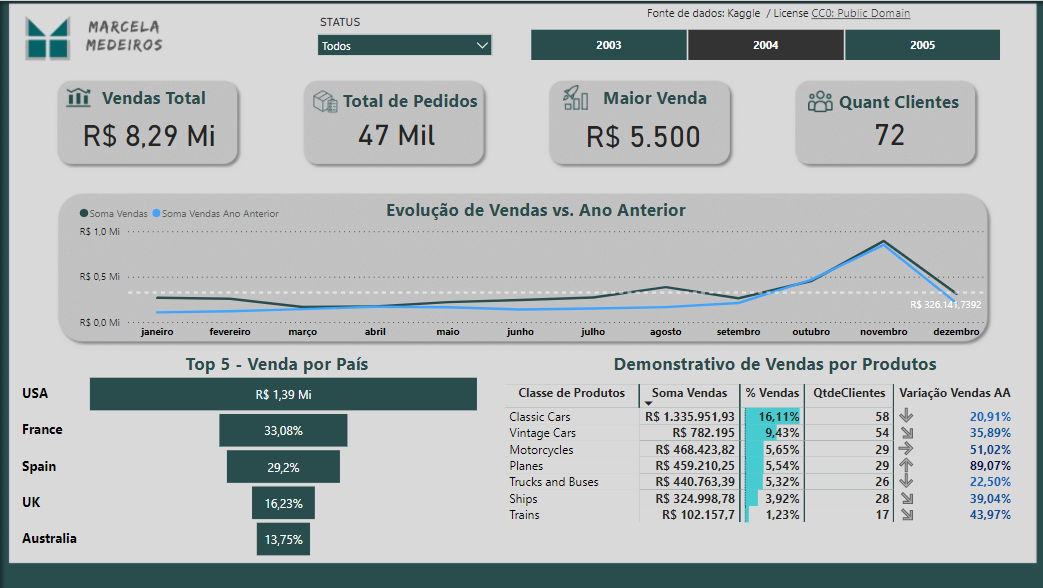

Layout of this report page (visuals, bound fields, positions):
{"tool":"powerbi","page":{"name":"Página 1","canvas":[1280,720],"ordinal":0},"visuals":[{"type":"pivotTable","fields":{"Values":["Medidas.Soma Vendas","Medidas.% Vendas","Calendario.QtdeClientes","Medidas.Variação Vendas Ano Anterior"],"Rows":["sales_data_sample.PRODUCTLINE"]},"box":[614.9,463,649,224.4],"z":0},{"type":"card","fields":{"Values":["Medidas.Soma Vendas Total"]},"box":[78.1,119.3,213,83.8],"z":1000},{"type":"card","fields":{"Values":["Medidas.Total Pedidos"]},"box":[380.6,125,214.4,72.4],"z":2000},{"type":"slicer","fields":{"Values":["sales_data_sample.ORDER DATE.Variation.Hierarquia de datas.Ano"]},"box":[626.3,28.4,623.4,51.1],"z":3000},{"type":"lineChart","fields":{"Y":["Medidas.Soma Vendas","Medidas.Soma Vendas Ano Anterior"],"Category":["sales_data_sample.ORDER DATE.Variation.Hierarquia de datas.Ano","sales_data_sample.ORDER DATE.Variation.Hierarquia de datas.Trimestre","sales_data_sample.ORDER DATE.Variation.Hierarquia de datas.Mês","sales_data_sample.ORDER DATE.Variation.Hierarquia de datas.Dia"]},"box":[93.7,240,1117.6,183.2],"z":4000},{"type":"textbox","box":[103.7,98,173.3,63.9],"z":5000},{"type":"textbox","box":[406.7,101.3,193.4,55.3],"z":6000},{"type":"card","fields":{"Values":["Medidas.MaiorVenda"]},"box":[686,132,205.7,59.9],"z":7000},{"type":"textbox","box":[706,98.2,193.4,55.3],"z":8000},{"type":"image","box":[25.6,0,68.2,89.5],"z":9000},{"type":"textbox","box":[664.6,423.2,569.5,55.4],"z":10000},{"type":"card","fields":{"Values":["Medidas.QtdeClientes"]},"box":[968.5,129.2,242.8,59.6],"z":11000},{"type":"slicer","fields":{"Values":["sales_data_sample.STATUS"]},"box":[380.6,12.8,234.3,76.7],"z":12000},{"type":"funnel","fields":{"Y":["Medidas.Soma Vendas"],"Category":["sales_data_sample.COUNTRY"]},"box":[25,451.7,570.8,236.4],"z":13000},{"type":"textbox","box":[56.8,423.2,569.5,55.4],"z":14000},{"type":"textbox","box":[363.7,234.8,586.3,55.3],"z":15000},{"type":"textbox","box":[1014.5,102.8,173.4,39.9],"z":17000},{"type":"image","box":[985.3,102.8,39.9,39.9],"z":18000},{"type":"image","box":[380.6,102.8,39.9,39.9],"z":19000},{"type":"image","box":[78.3,98.2,39.9,39.9],"z":20000},{"type":"image","box":[686,98.2,39.9,39.9],"z":21000},{"type":"textbox","box":[788.9,0,445.1,29.2],"z":22000},{"type":"image","box":[83.8,14.2,140.6,75.3],"z":22001}]}

Visuals, with their boxes in screenshot pixels (x1, y1, x2, y2), scaled from the page's 1280x720 canvas onto the 1043x588 screenshot:
pivotTable - Medidas.Soma Vendas x Medidas.% Vendas: [x1=501, y1=378, x2=1030, y2=561]
card - Medidas.Soma Vendas Total: [x1=64, y1=97, x2=237, y2=166]
card - Medidas.Total Pedidos: [x1=310, y1=102, x2=485, y2=161]
slicer - sales_data_sample.ORDER DATE.Variation.Hierarquia de datas.Ano: [x1=510, y1=23, x2=1018, y2=65]
lineChart - Medidas.Soma Vendas x Medidas.Soma Vendas Ano Anterior: [x1=76, y1=196, x2=987, y2=346]
textbox: [x1=84, y1=80, x2=226, y2=132]
textbox: [x1=331, y1=83, x2=489, y2=128]
card - Medidas.MaiorVenda: [x1=559, y1=108, x2=727, y2=157]
textbox: [x1=575, y1=80, x2=733, y2=125]
image: [x1=21, y1=0, x2=76, y2=73]
textbox: [x1=542, y1=346, x2=1006, y2=391]
card - Medidas.QtdeClientes: [x1=789, y1=106, x2=987, y2=154]
slicer - sales_data_sample.STATUS: [x1=310, y1=10, x2=501, y2=73]
funnel - Medidas.Soma Vendas x sales_data_sample.COUNTRY: [x1=20, y1=369, x2=485, y2=562]
textbox: [x1=46, y1=346, x2=510, y2=391]
textbox: [x1=296, y1=192, x2=774, y2=237]
textbox: [x1=827, y1=84, x2=968, y2=117]
image: [x1=803, y1=84, x2=835, y2=117]
image: [x1=310, y1=84, x2=343, y2=117]
image: [x1=64, y1=80, x2=96, y2=113]
image: [x1=559, y1=80, x2=591, y2=113]
textbox: [x1=643, y1=0, x2=1006, y2=24]
image: [x1=68, y1=12, x2=183, y2=73]
